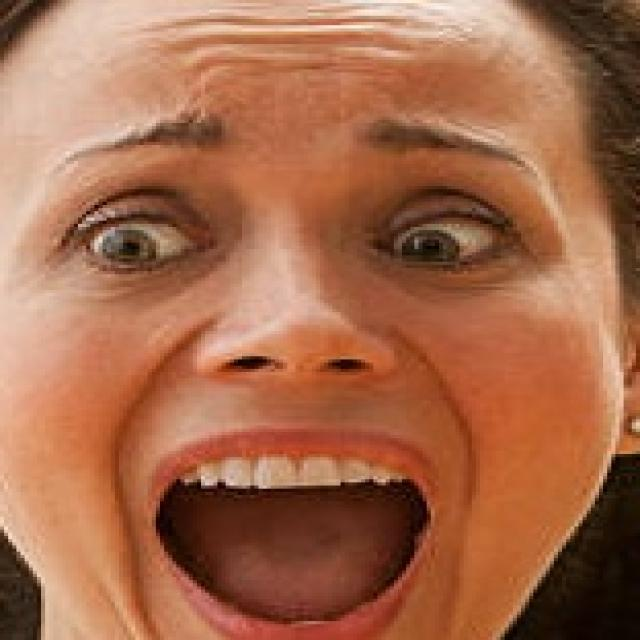Anxiety: (4, 0, 629, 637)
